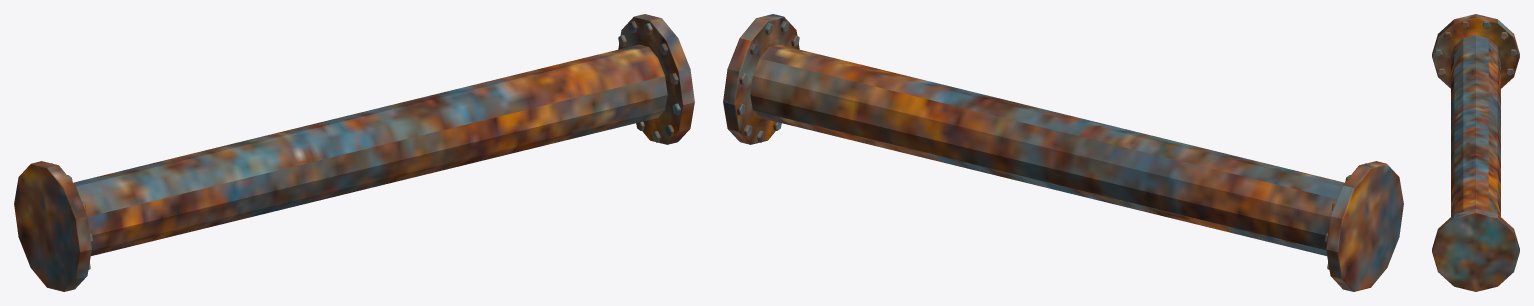
Rendered from pipe.11.fbx.
The picture shows the model from 3 angles, left to right: view 1: azimuth 30°, elevation 25°; view 2: azimuth 150°, elevation 25°; view 3: azimuth 270°, elevation 25°; orthographic projection. The views are drawn at different scales.
Parts seen in each view (by area): view 1: Pipe.11; view 2: Pipe.11; view 3: Pipe.11.
Part boxes in pixels (left/top/right/bottom): Pipe.11: left=14, top=14, right=694, bottom=291; Pipe.11: left=723, top=14, right=1403, bottom=291; Pipe.11: left=1432, top=14, right=1519, bottom=291.
Size of the model in its own units: 300 by 55.99 by 55.99.
